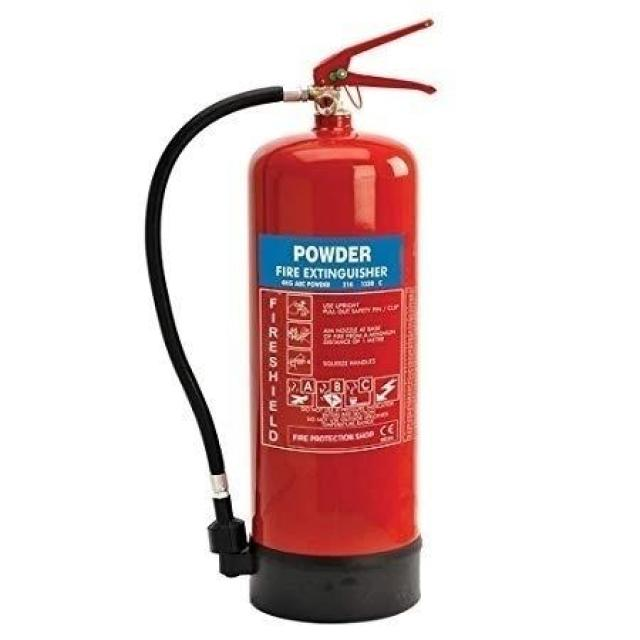fire_extinguisher: (139, 11, 443, 629)
